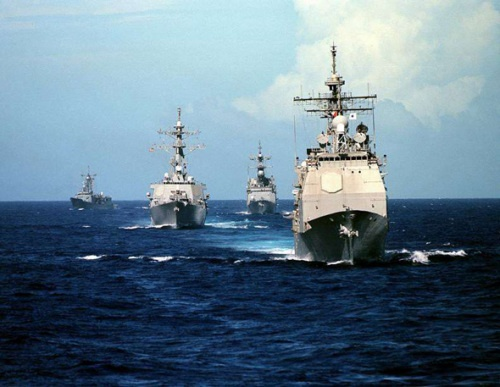warship: (286, 37, 389, 266), (143, 105, 216, 231), (243, 143, 282, 217), (67, 167, 116, 210)
